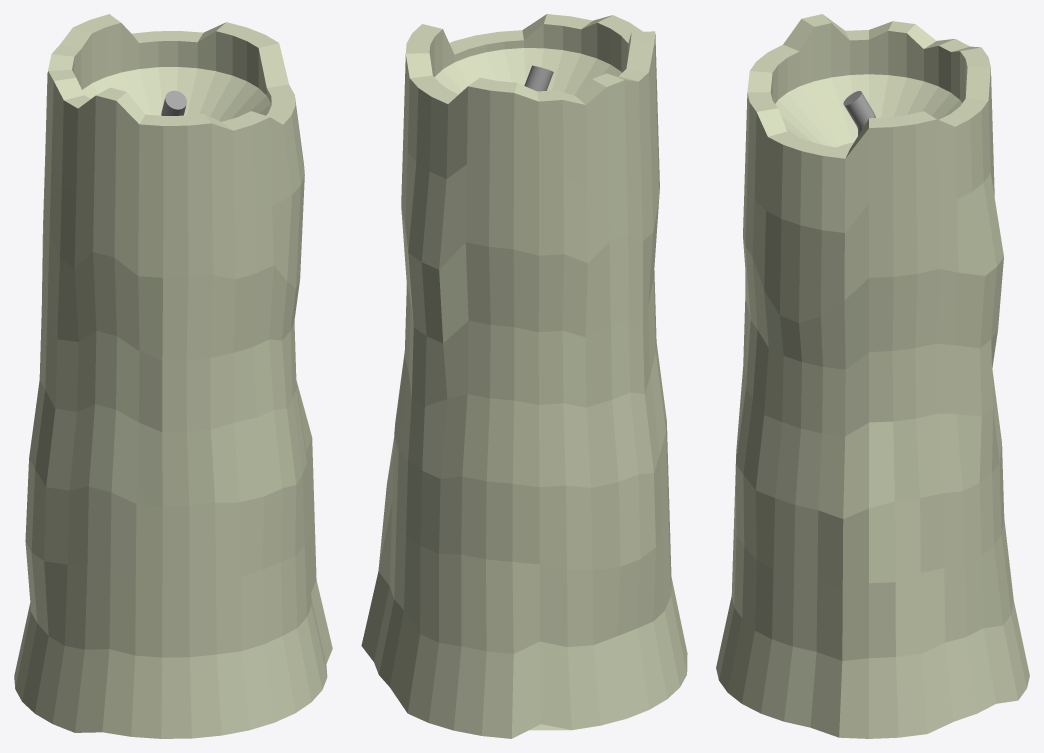
File: CandleHolder_Prot_0.2_CandlesNoLit.fbx
3 views of the same model, side by side, from view 1: azimuth 30°, elevation 25°; view 2: azimuth 150°, elevation 25°; view 3: azimuth 270°, elevation 25° (orthographic). The views are drawn at different scales.
Visible parts, largest first — view 1: Cylinder.029, Cylinder.030; view 2: Cylinder.029, Cylinder.030; view 3: Cylinder.029, Cylinder.030.
Part boxes in pixels (x1,y1,x2,y2): Cylinder.029: [14, 14, 332, 738]; Cylinder.030: [161, 90, 186, 115]; Cylinder.029: [361, 14, 687, 738]; Cylinder.030: [524, 65, 553, 91]; Cylinder.029: [716, 14, 1029, 738]; Cylinder.030: [843, 91, 875, 135].
Bounding box in the file's own units: 39 × 82.41 × 38.
